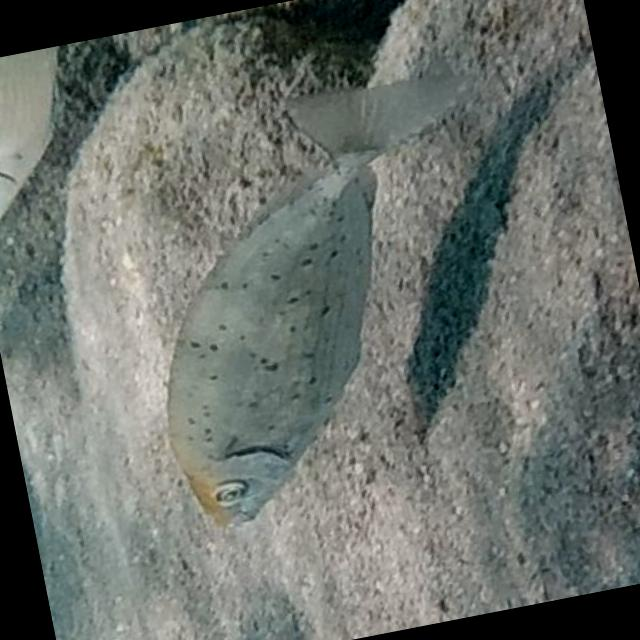Sokar Baligi: (82, 29, 581, 562)
